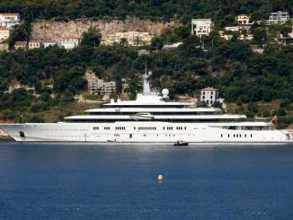yacht: (8, 90, 290, 142)
